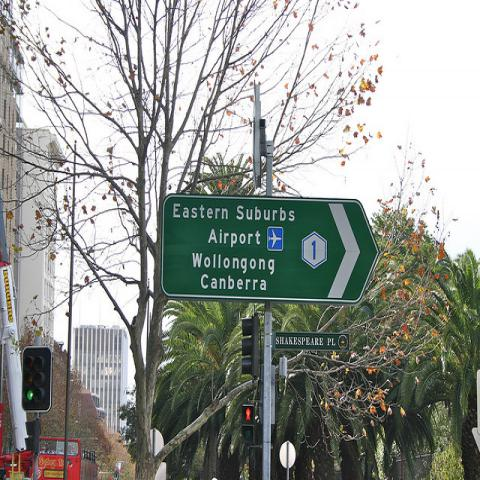bus: (36, 437, 80, 479)
